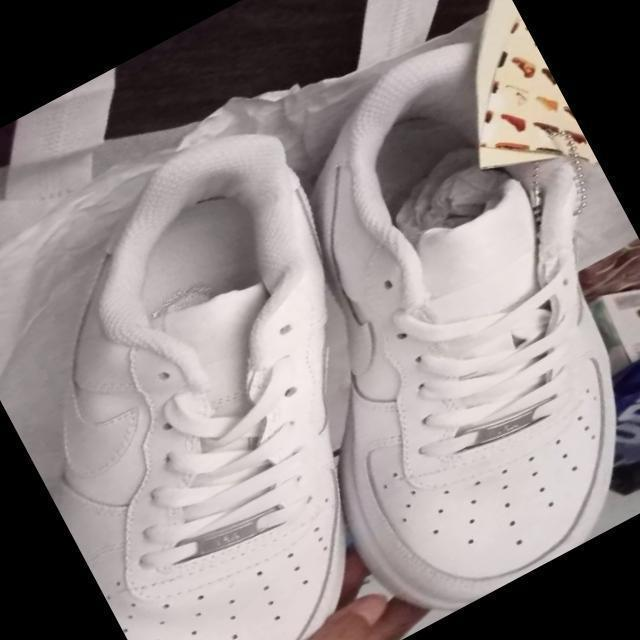nike fake air force: (157, 0, 640, 640), (0, 105, 501, 640)
